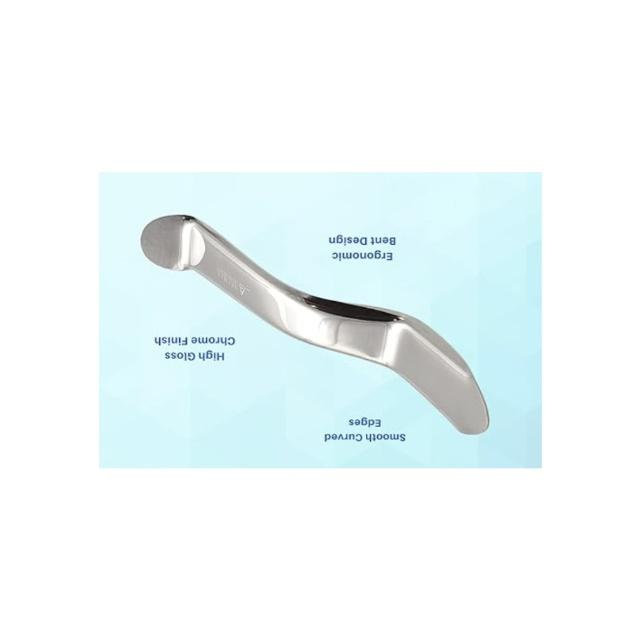separador: (139, 214, 491, 438)
